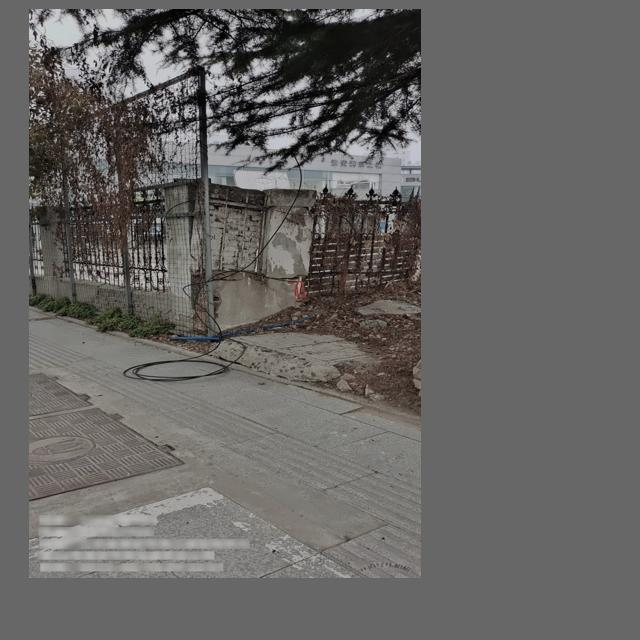good: (36, 485, 360, 578)
